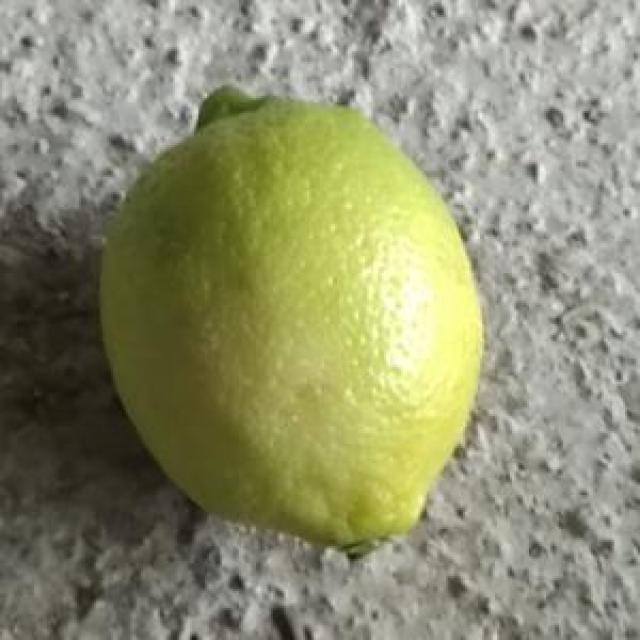lemon: (96, 86, 487, 544)
